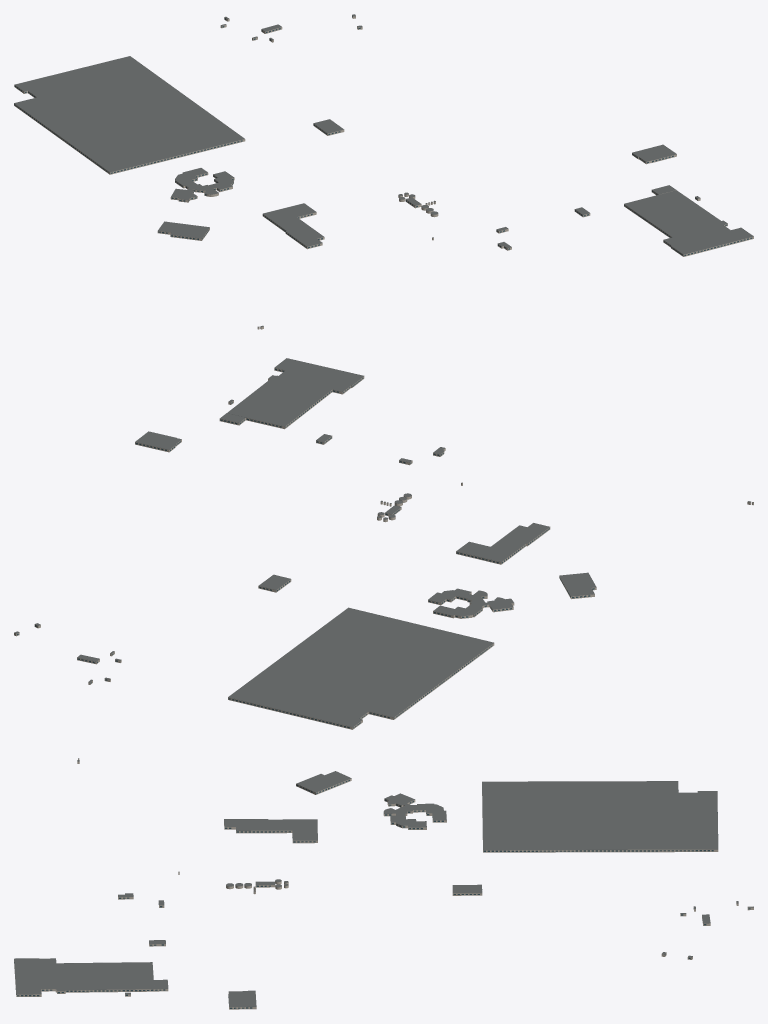
The picture shows the model from 3 angles, top to bottom: view 1: azimuth 30°, elevation 25°; view 2: azimuth 150°, elevation 25°; view 3: azimuth 270°, elevation 25°; orthographic projection. The views are drawn at different scales.
Visible parts, largest first — view 1: Buildings (-2, -4) Roof membrane, Buildings (-2, -4) Masonry brick, Buildings (-2, -4) Architectural tinted glass; view 2: Buildings (-2, -4) Roof membrane, Buildings (-2, -4) Masonry brick, Buildings (-2, -4) Architectural tinted glass; view 3: Buildings (-2, -4) Roof membrane, Buildings (-2, -4) Masonry brick, Buildings (-2, -4) Architectural tinted glass, Buildings (-2, -4) Metal coping.
Part boxes in pixels (<box>): Buildings (-2, -4) Roof membrane: <box>14,14,753,326</box>; Buildings (-2, -4) Masonry brick: <box>14,15,753,329</box>; Buildings (-2, -4) Architectural tinted glass: <box>14,16,752,255</box>; Buildings (-2, -4) Roof membrane: <box>14,358,753,727</box>; Buildings (-2, -4) Masonry brick: <box>14,368,753,729</box>; Buildings (-2, -4) Architectural tinted glass: <box>17,368,594,728</box>; Buildings (-2, -4) Roof membrane: <box>14,758,753,1006</box>; Buildings (-2, -4) Masonry brick: <box>14,759,753,1009</box>; Buildings (-2, -4) Architectural tinted glass: <box>14,779,750,1008</box>; Buildings (-2, -4) Metal coping: <box>15,758,753,1006</box>.
Size of the model in its own units: 734 by 5.62 by 925.
